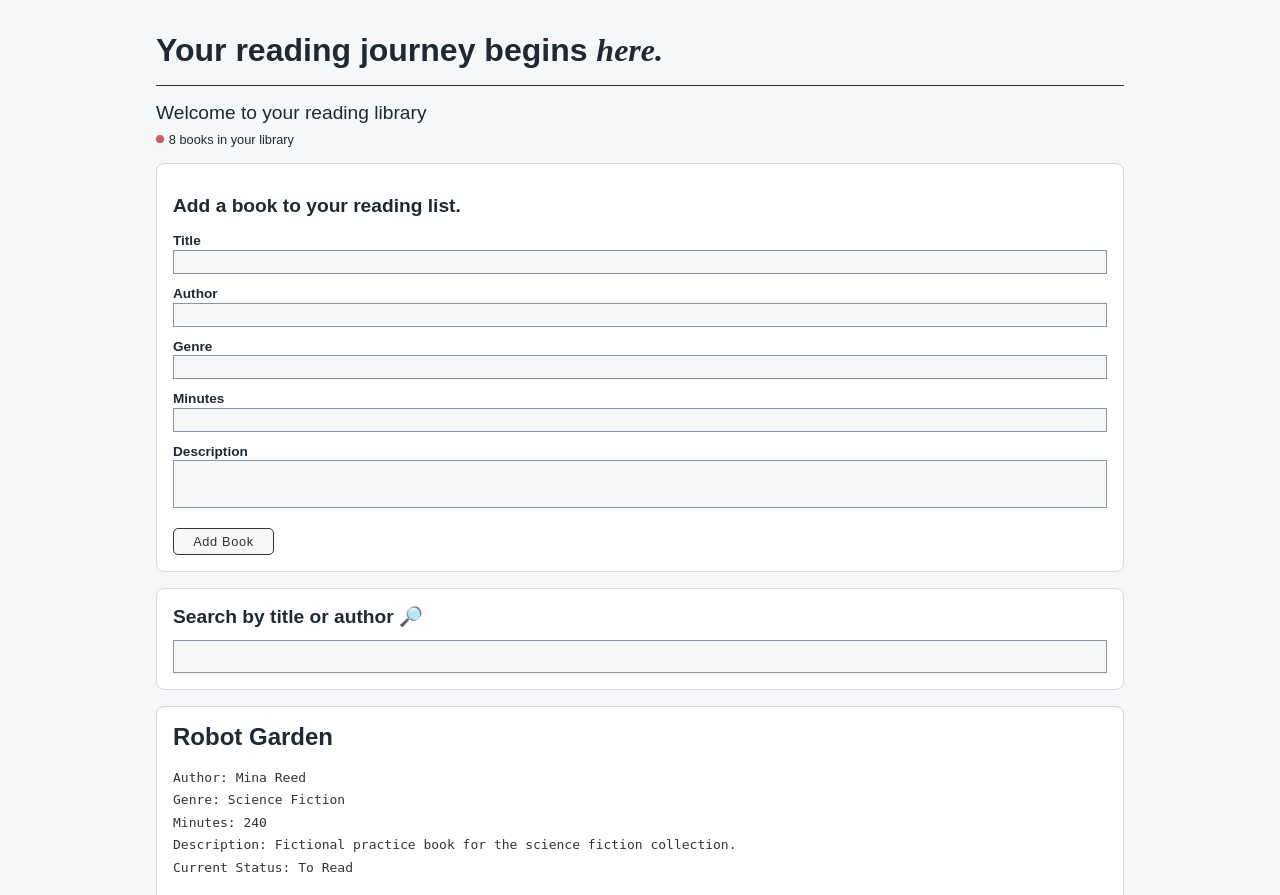
Test: adds a valid book with lowercases and ws throughout and cleans its formatting
The image size is (1280, 895).
In the field labelled "Title": (640, 262) [173, 250, 1107, 274], type "test book"
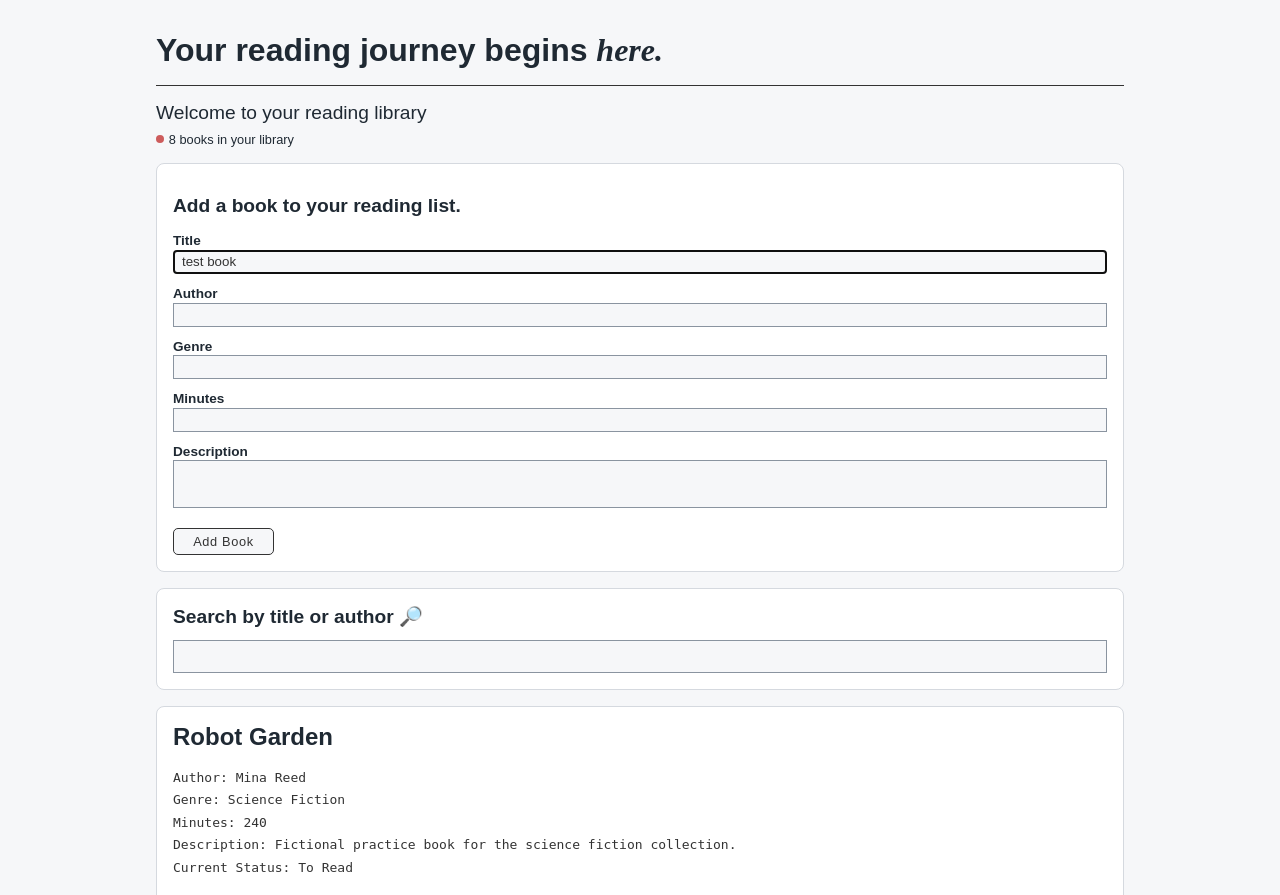
In the field labelled "Author": (640, 314) [173, 302, 1107, 326], type "jane doe"
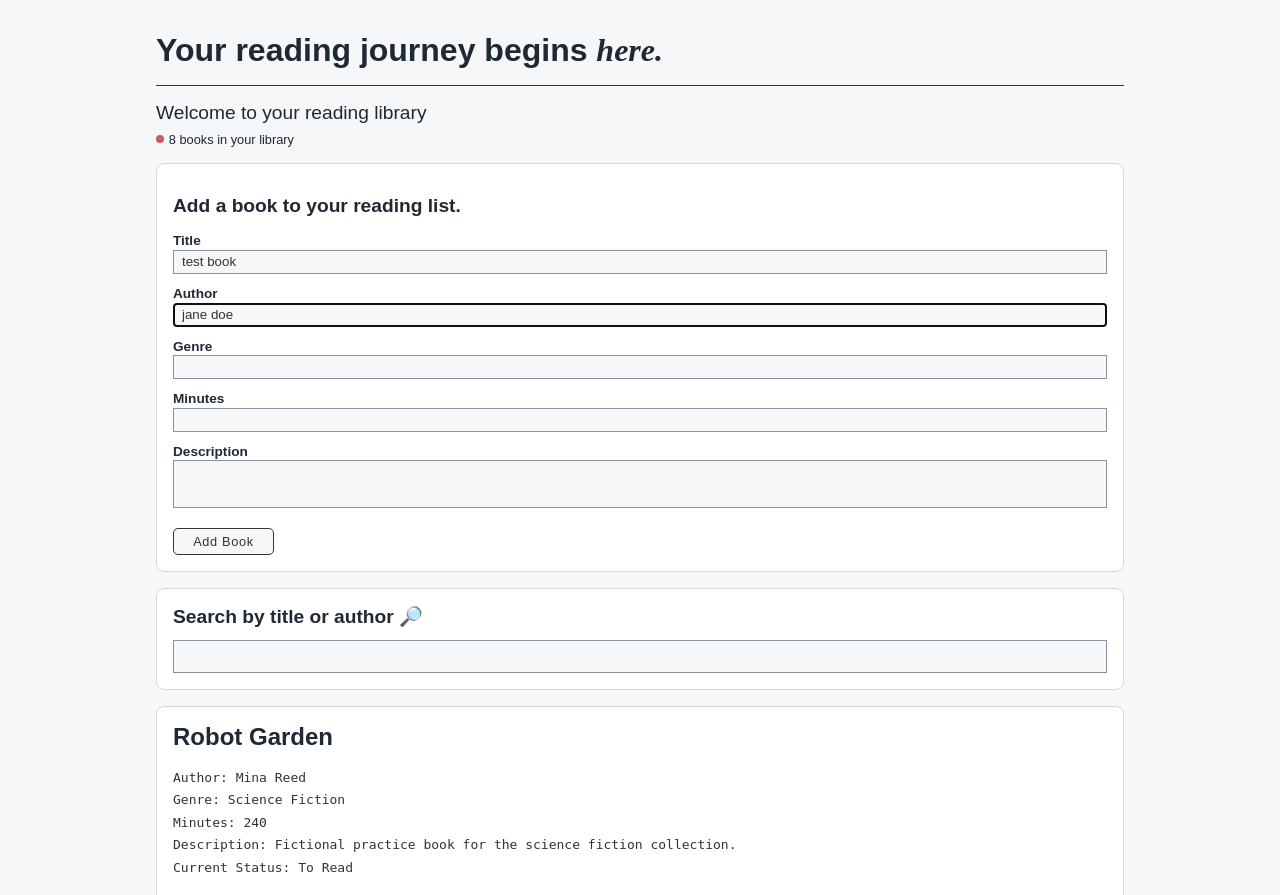
In the number field labelled "Minutes": (640, 420) [173, 408, 1107, 432], type "120"
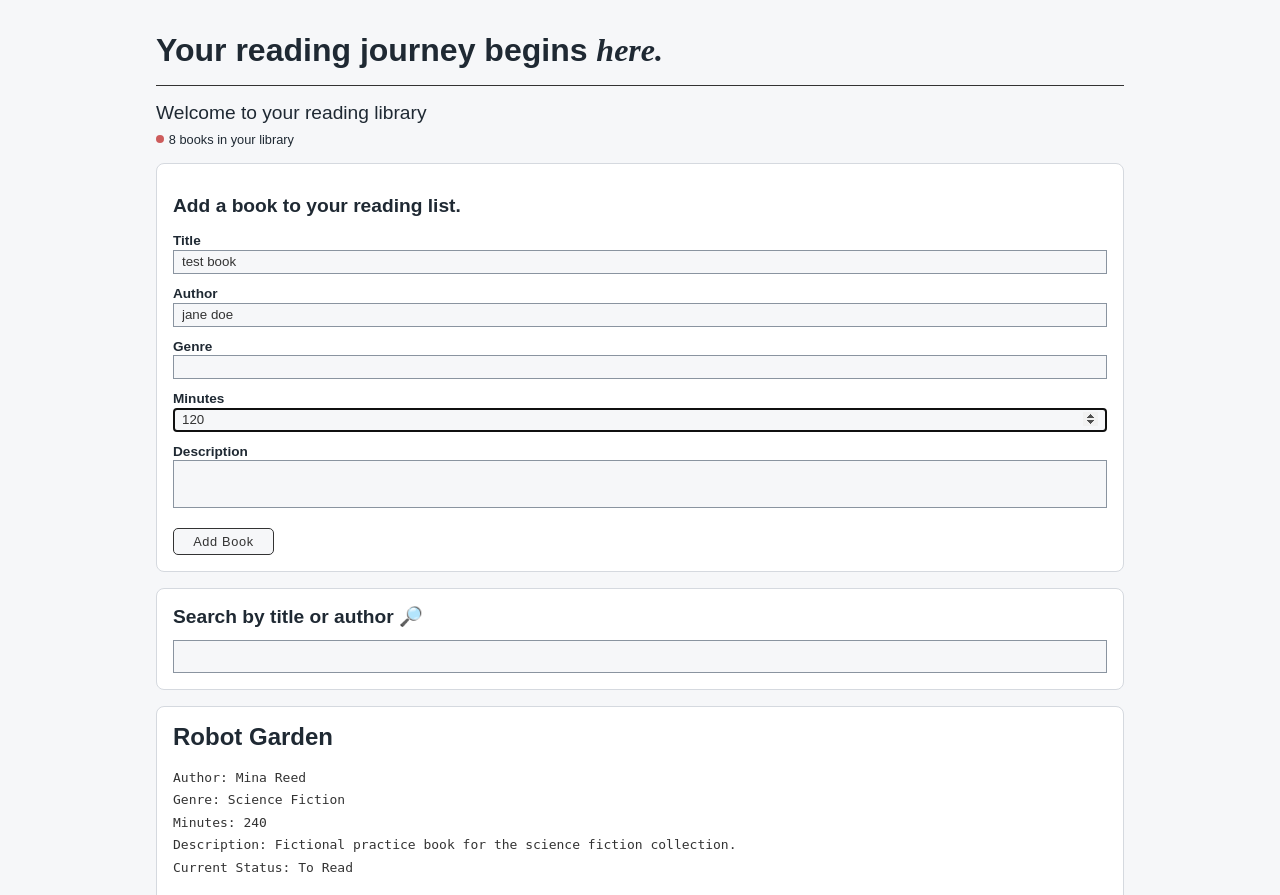
Click the button "Add Book": (224, 542) [173, 528, 274, 555]
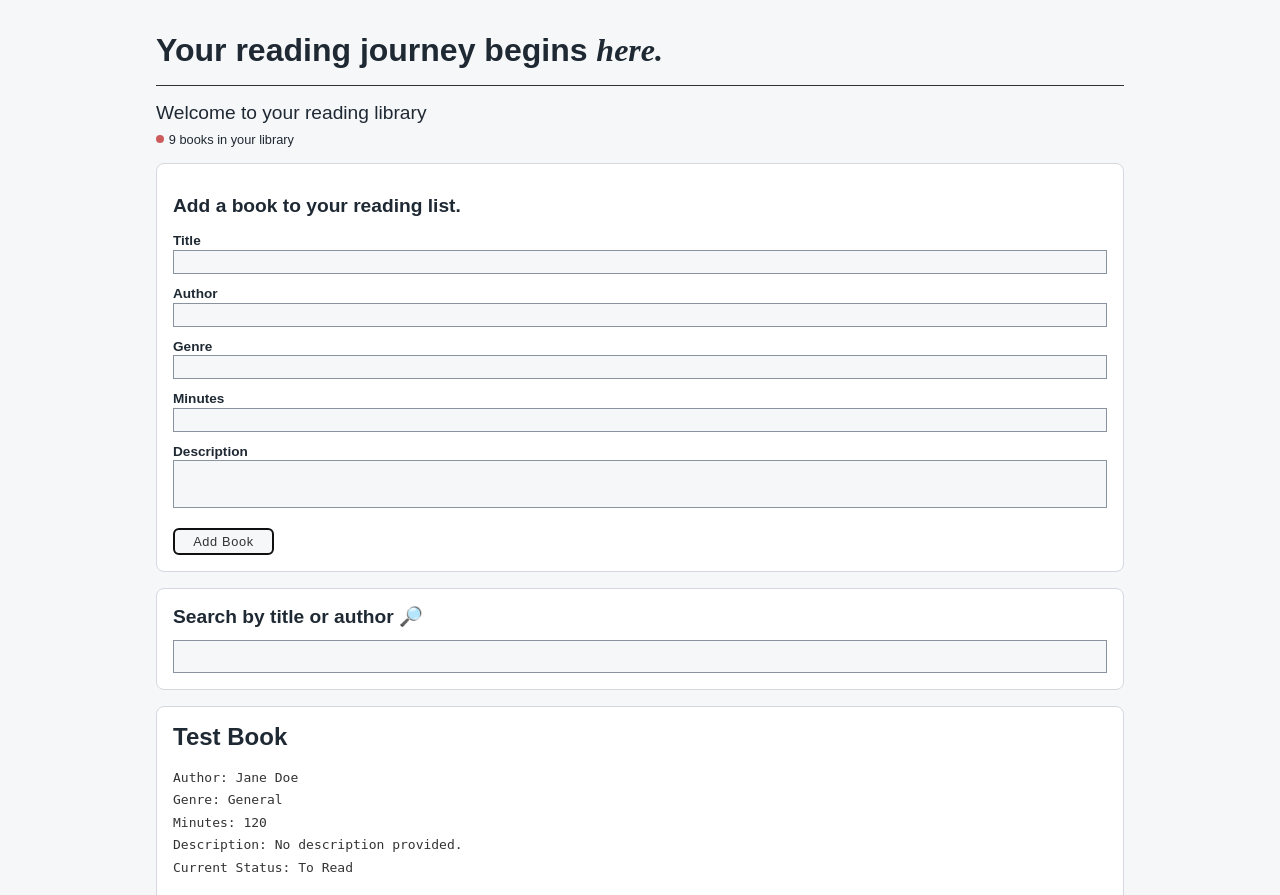
Now the heading "Test Book" is shown, box [173, 723, 287, 750]
Now the text "9 books in your library" is shown, box [169, 132, 294, 146]
